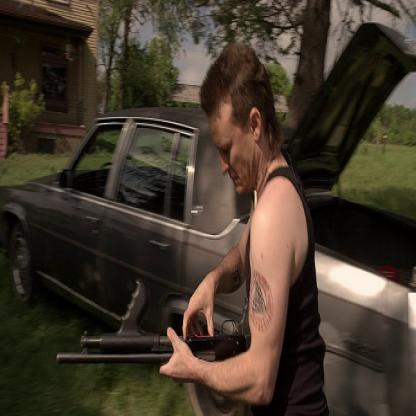Guns: (53, 276, 251, 380)
